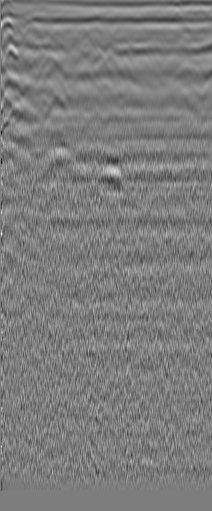오수: (18, 22, 42, 48)
우수: (172, 20, 197, 48)
